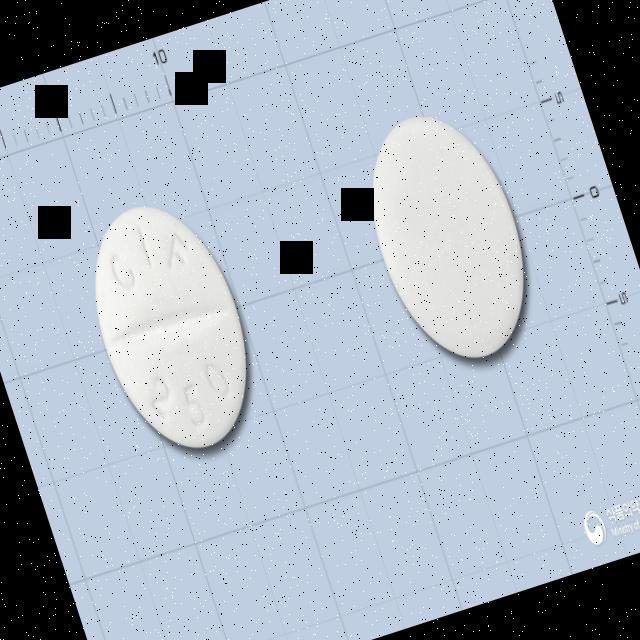Sinil Ciprofloxacin HCl Tab: (64, 183, 276, 470)
